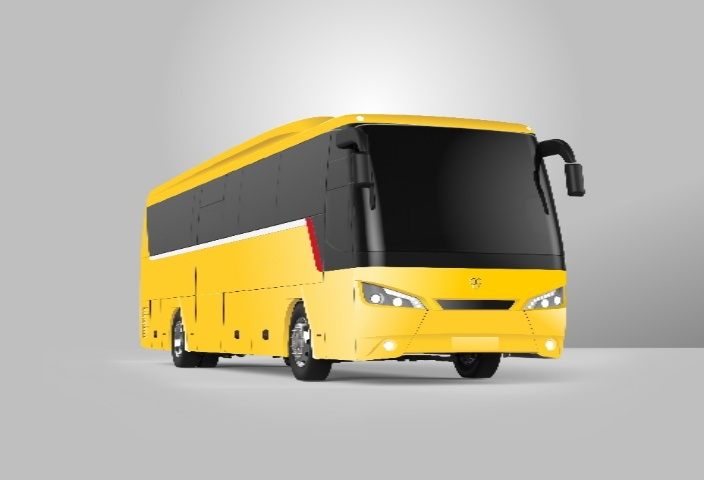bus: (117, 99, 596, 390)
